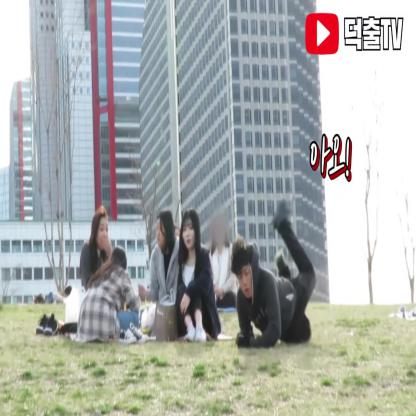Fall_Down: (228, 195, 320, 352)
